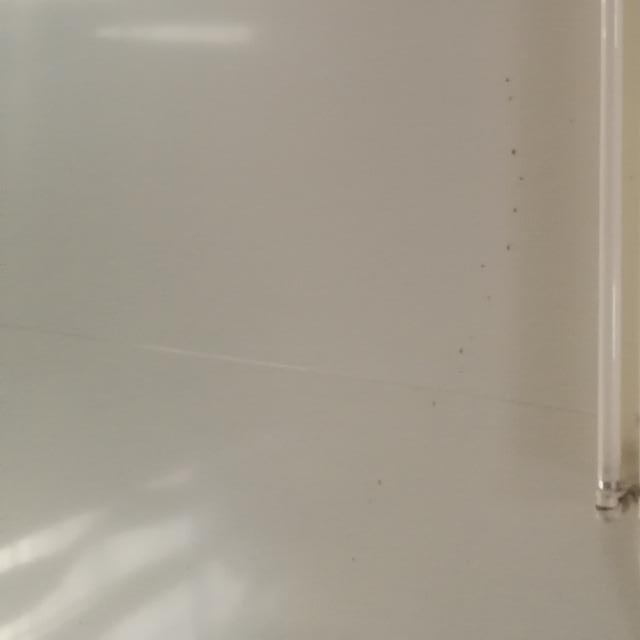fluorescent tube: (491, 0, 640, 542)
